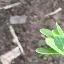Purslane: (21, 15, 64, 64)
